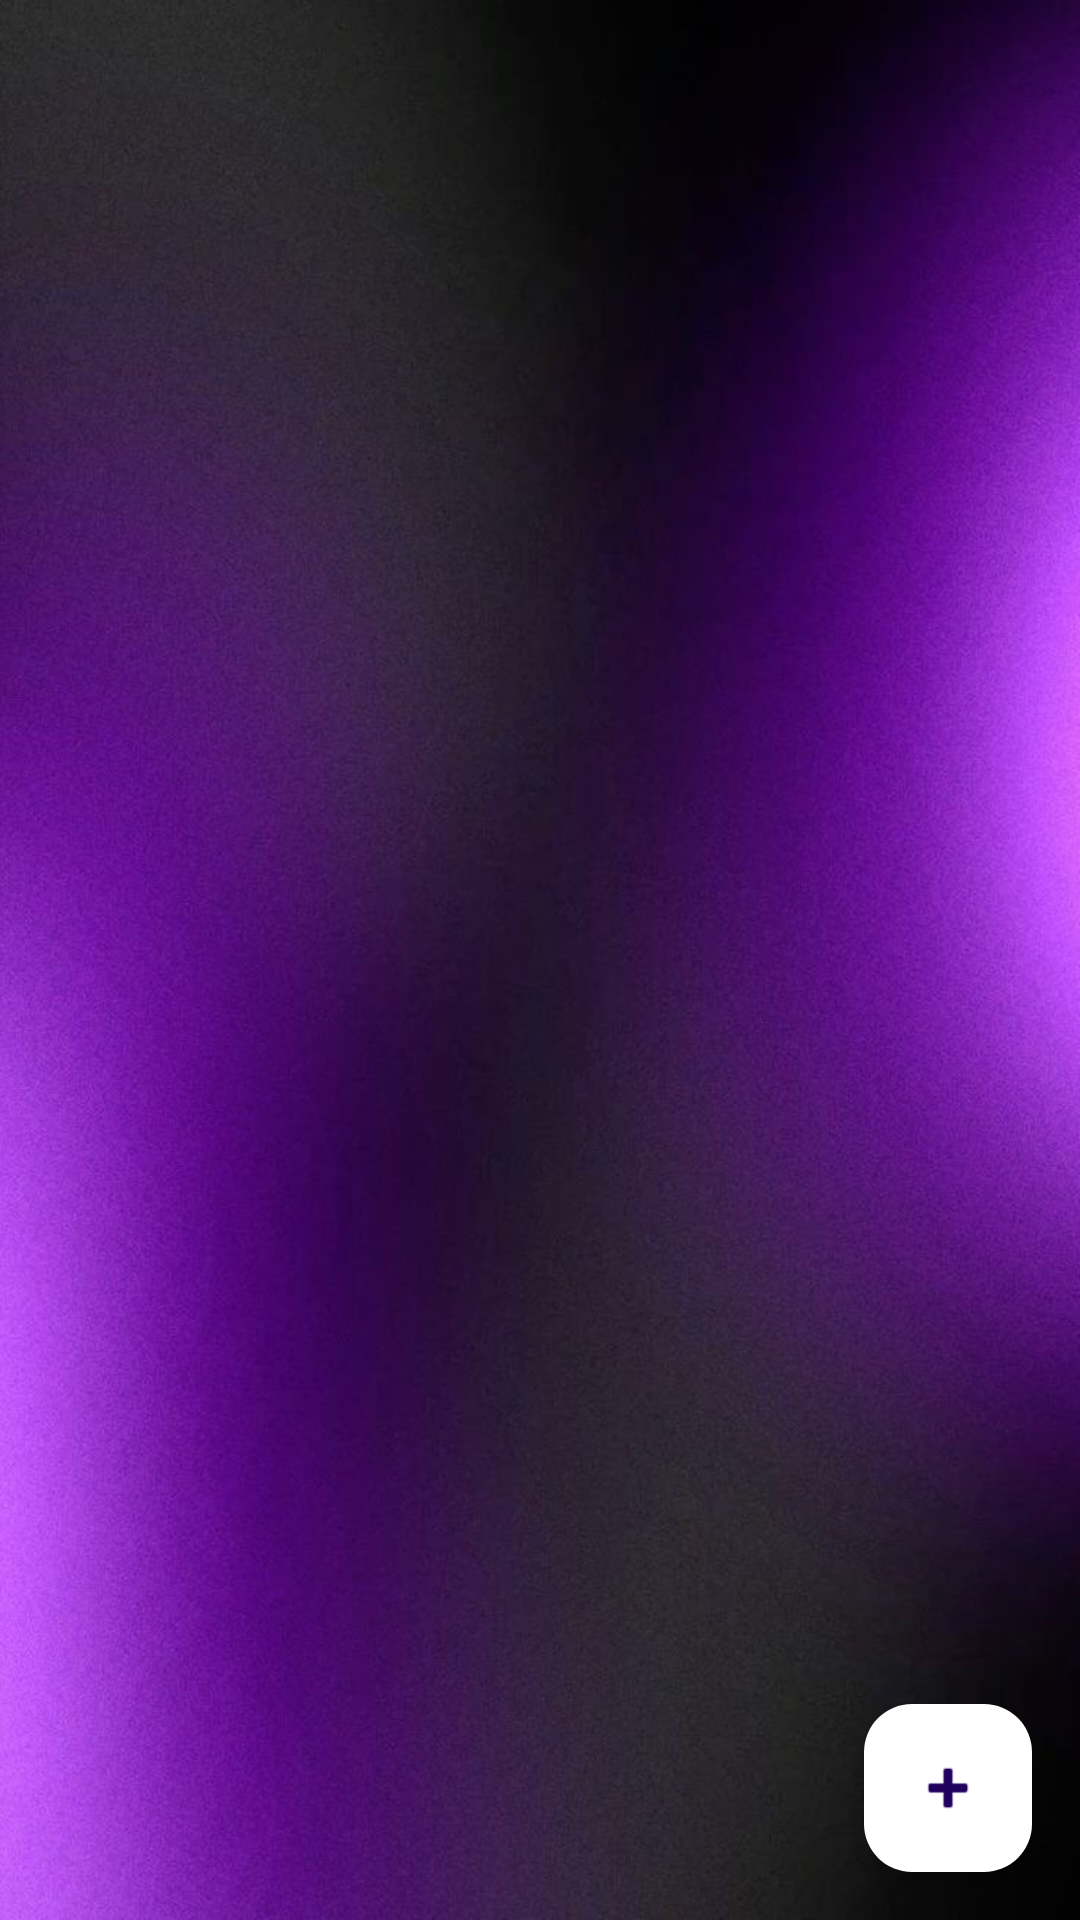

Icons on this 1080 × 1920 Android screen, each with its box as (x1,y1,x2,y2):
Add Album: (864,1704,1032,1872)
